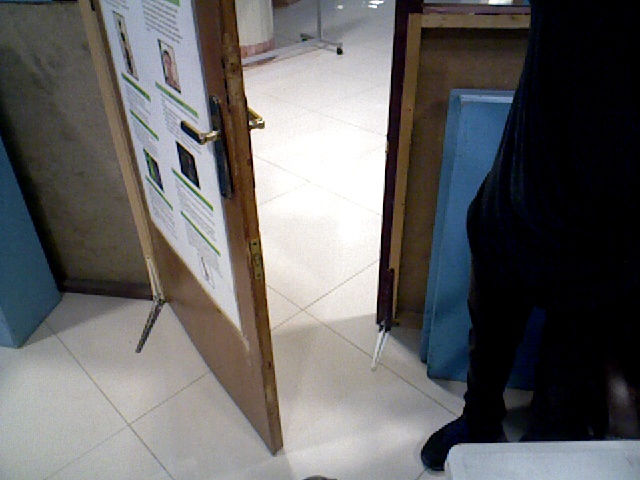door_handle: (178, 95, 237, 204)
